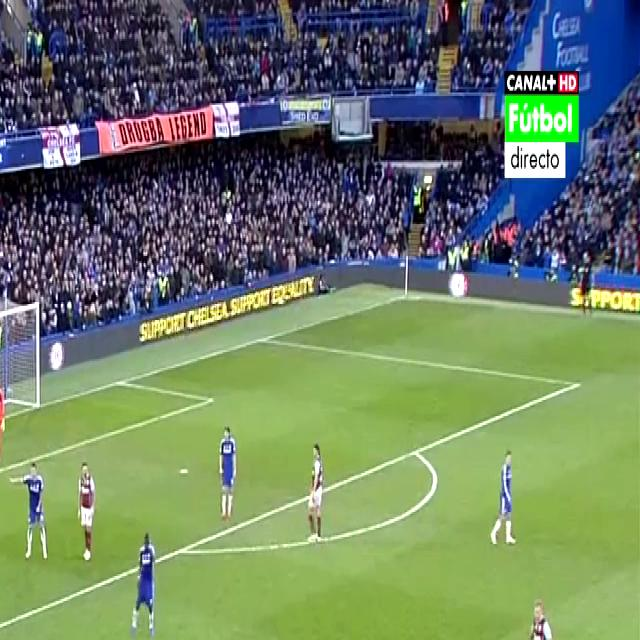goalkeeper: (0, 366, 9, 471)
referee: (574, 258, 596, 322), (361, 638, 402, 640)
soccer-player: (120, 519, 160, 640), (14, 455, 54, 572), (487, 435, 523, 551), (298, 436, 330, 554), (70, 455, 102, 572), (211, 417, 243, 529), (519, 588, 563, 640)
